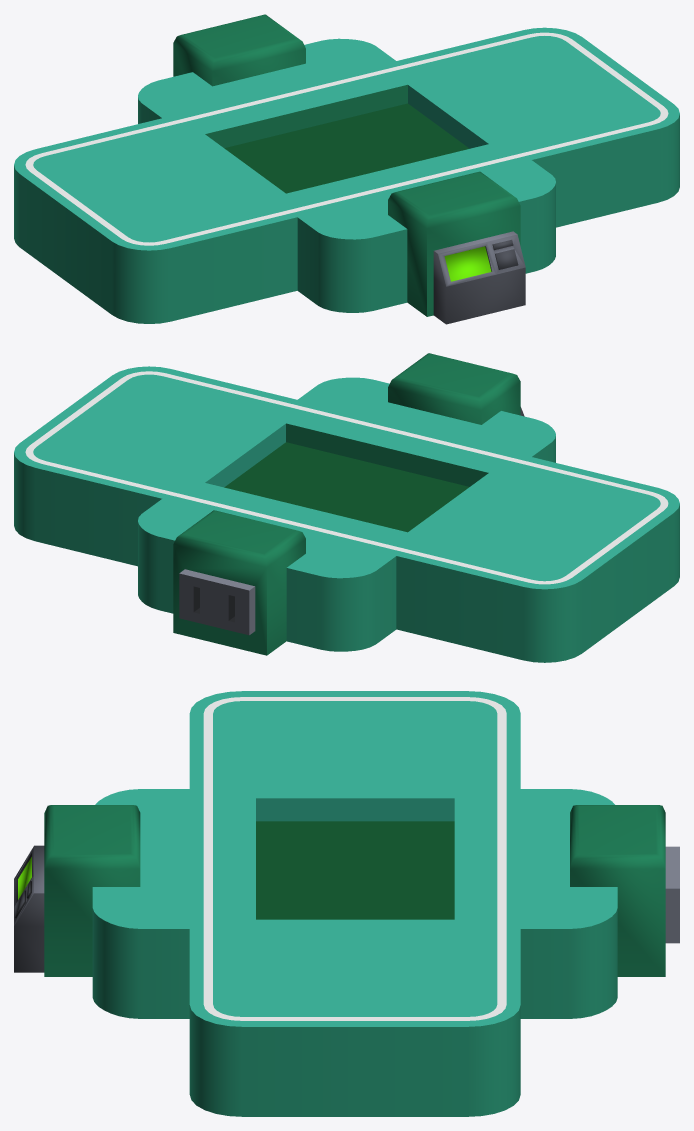
The model's file is NF_Number_Wheel_Frame.fbx.
3 views of the same model, one above another, from view 1: azimuth 30°, elevation 25°; view 2: azimuth 150°, elevation 25°; view 3: azimuth 270°, elevation 25° (orthographic). The views are drawn at different scales.
Visible parts, largest first — view 1: NF_Number_Wheel_Frame; view 2: NF_Number_Wheel_Frame; view 3: NF_Number_Wheel_Frame.
Part boxes in pixels (x1,y1,x2,y2): NF_Number_Wheel_Frame: (14,14,679,324); NF_Number_Wheel_Frame: (14,353,679,662); NF_Number_Wheel_Frame: (14,691,679,1116).
Bounding box in the file's own units: 6 × 0.9924 × 5.03.
